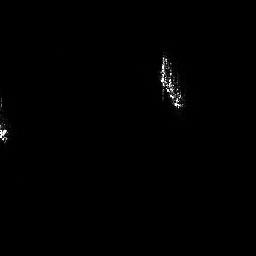ship: (158, 52, 185, 111)
